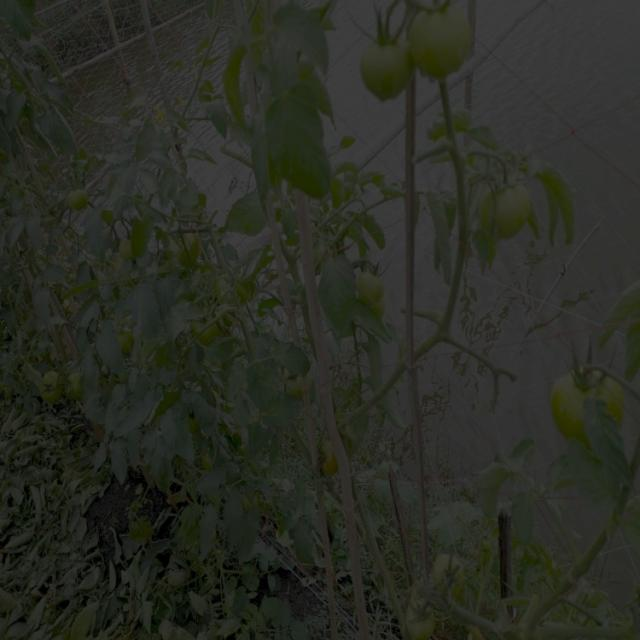tomato: (550, 349, 624, 450), (410, 6, 482, 79), (484, 171, 532, 240), (357, 34, 408, 97), (432, 549, 472, 595), (360, 266, 387, 321), (218, 273, 254, 311), (190, 316, 229, 350), (405, 602, 438, 640), (179, 237, 206, 273), (319, 437, 343, 473), (38, 373, 61, 406), (111, 322, 134, 355), (286, 368, 314, 395), (116, 235, 141, 261), (166, 563, 195, 585), (63, 373, 88, 396), (67, 190, 95, 210), (203, 451, 225, 471)
